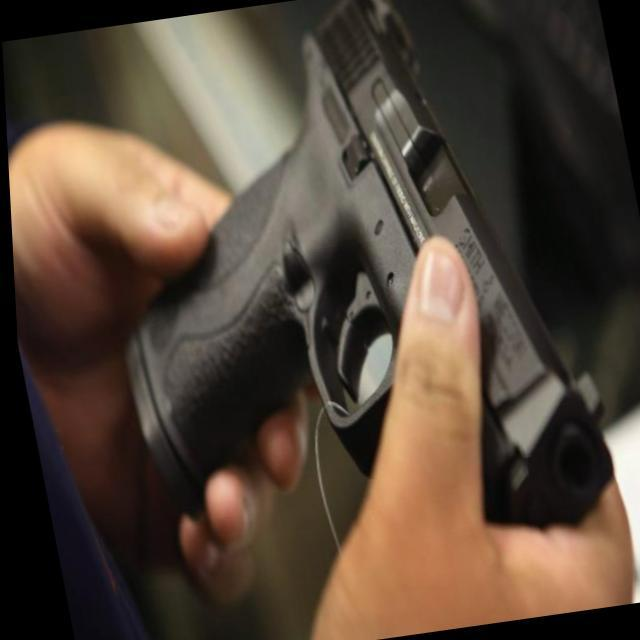weapon: (57, 0, 622, 587)
